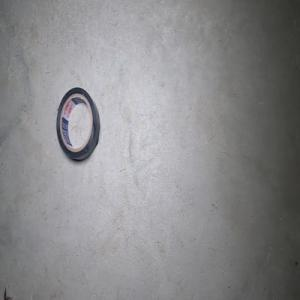Tape: (56, 87, 100, 161)
